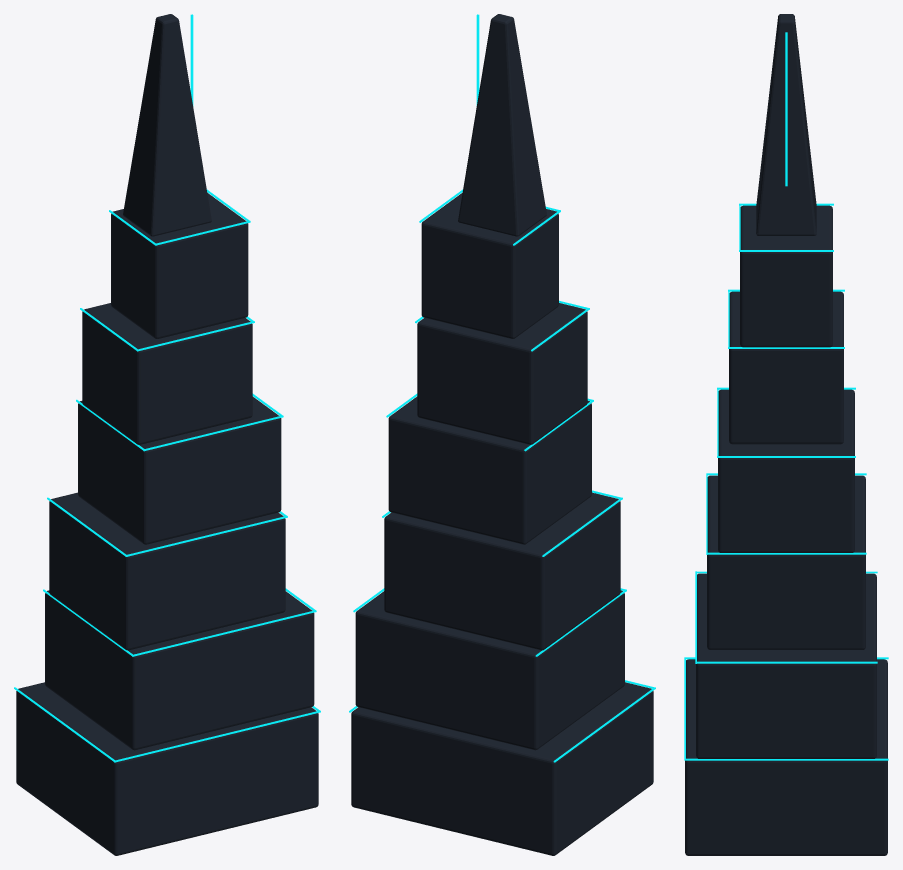
File: Terrace.glb
3 views of the same model, side by side, from view 1: azimuth 30°, elevation 25°; view 2: azimuth 150°, elevation 25°; view 3: azimuth 270°, elevation 25° (orthographic).
Visible parts, largest first — view 1: Terrace_0, Terrace_1, Terrace_2, Terrace_3, Terrace_4, Terrace_5, Terrace_Crown; view 2: Terrace_0, Terrace_1, Terrace_2, Terrace_3, Terrace_4, Terrace_5, Terrace_Crown; view 3: Terrace_0, Terrace_1, Terrace_2, Terrace_3, Terrace_4, Terrace_5, Terrace_Crown, Terrace_Edge1b, Terrace_CrownSeam, Terrace_Edge0b.
Boxes of the visible parts, <box> form: Terrace_0: <box>16,682,318,855</box>; Terrace_1: <box>45,590,314,750</box>; Terrace_2: <box>49,492,285,650</box>; Terrace_3: <box>78,396,281,544</box>; Terrace_4: <box>82,303,252,444</box>; Terrace_5: <box>111,193,248,338</box>; Terrace_Crown: <box>123,14,211,236</box>; Terrace_0: <box>351,682,653,855</box>; Terrace_1: <box>355,590,624,750</box>; Terrace_2: <box>384,492,620,650</box>; Terrace_3: <box>388,396,591,544</box>; Terrace_4: <box>417,303,587,444</box>; Terrace_5: <box>421,193,558,338</box>; Terrace_Crown: <box>458,14,546,236</box>; Terrace_0: <box>685,659,887,855</box>; Terrace_1: <box>696,573,876,758</box>; Terrace_2: <box>707,475,865,649</box>; Terrace_3: <box>718,389,854,552</box>; Terrace_4: <box>729,291,843,444</box>; Terrace_5: <box>740,205,832,347</box>; Terrace_Crown: <box>756,14,816,235</box>; Terrace_Edge1b: <box>697,661,877,663</box>; Terrace_CrownSeam: <box>785,32,787,186</box>; Terrace_Edge0b: <box>686,758,888,760</box>.
Size of the model in its own units: 26.35 by 94.5 by 22.2.
